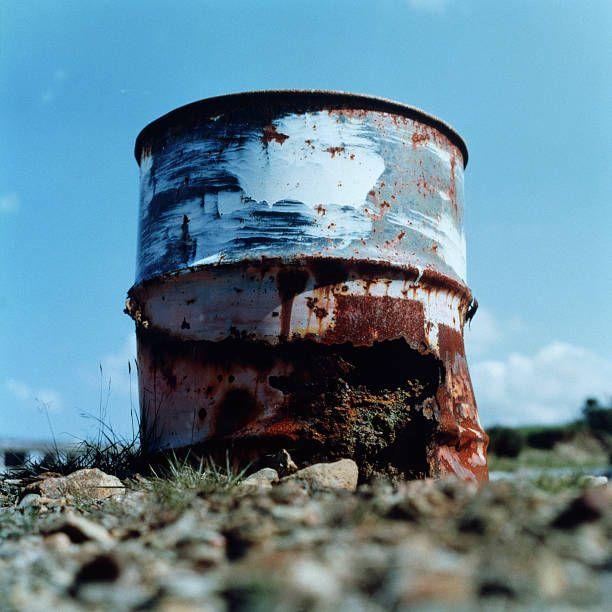metal: (117, 80, 489, 499)
